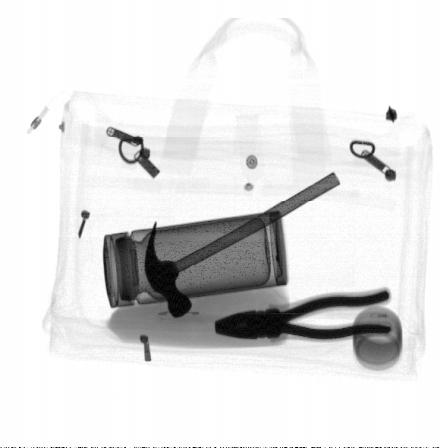Hammer: (144, 172, 340, 320)
Pliers: (214, 287, 392, 343)
